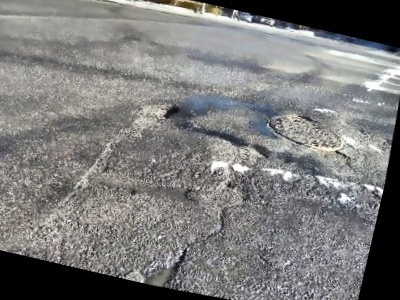pothole: (135, 241, 190, 291), (143, 97, 182, 123)
